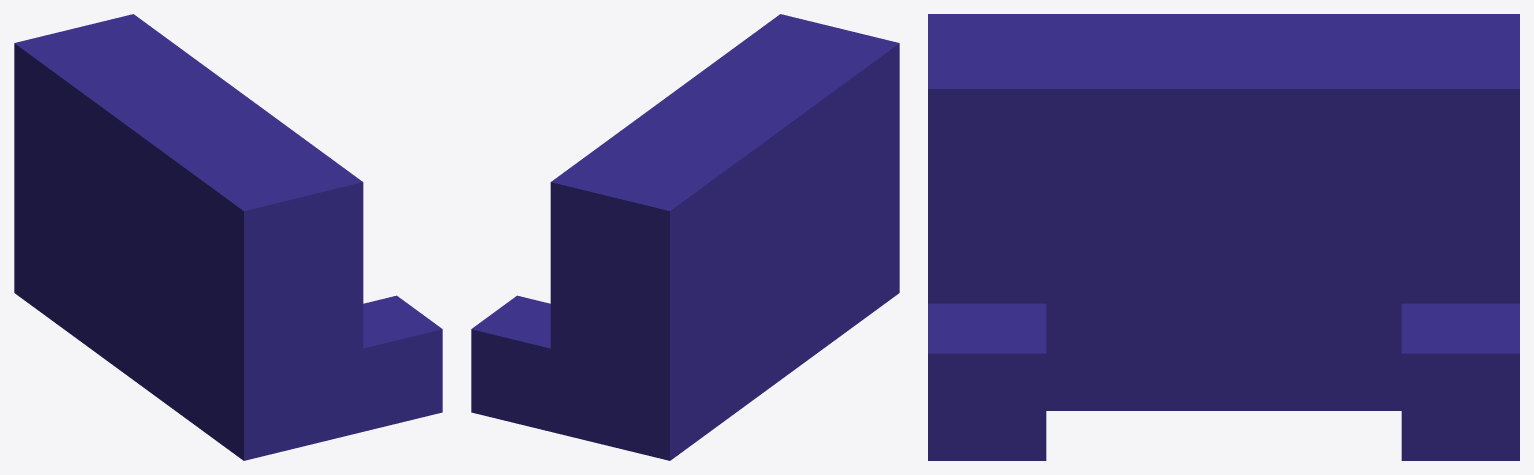
The model's file is Robot model torso test.fbx.
3 renders of one model, left to right at view 1: azimuth 30°, elevation 25°; view 2: azimuth 150°, elevation 25°; view 3: azimuth 270°, elevation 25°, orthographic. The views are drawn at different scales.
Parts seen in each view (by area): view 1: Torso.001; view 2: Torso.001; view 3: Torso.001.
Part boxes in pixels (x1,y1,x2,y2): Torso.001: (14, 14, 442, 460); Torso.001: (471, 14, 899, 460); Torso.001: (928, 14, 1519, 460).
Size of the model in its own units: 5 by 6 by 10.
